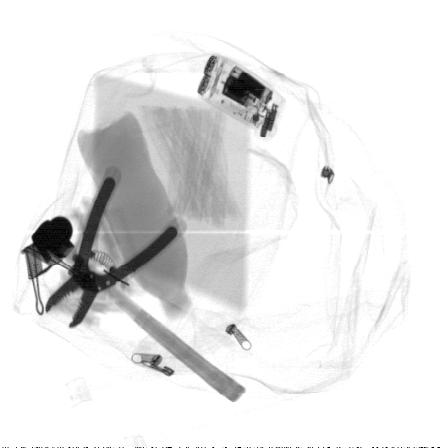Hammer: (30, 217, 248, 404)
Pliers: (46, 177, 178, 329)
